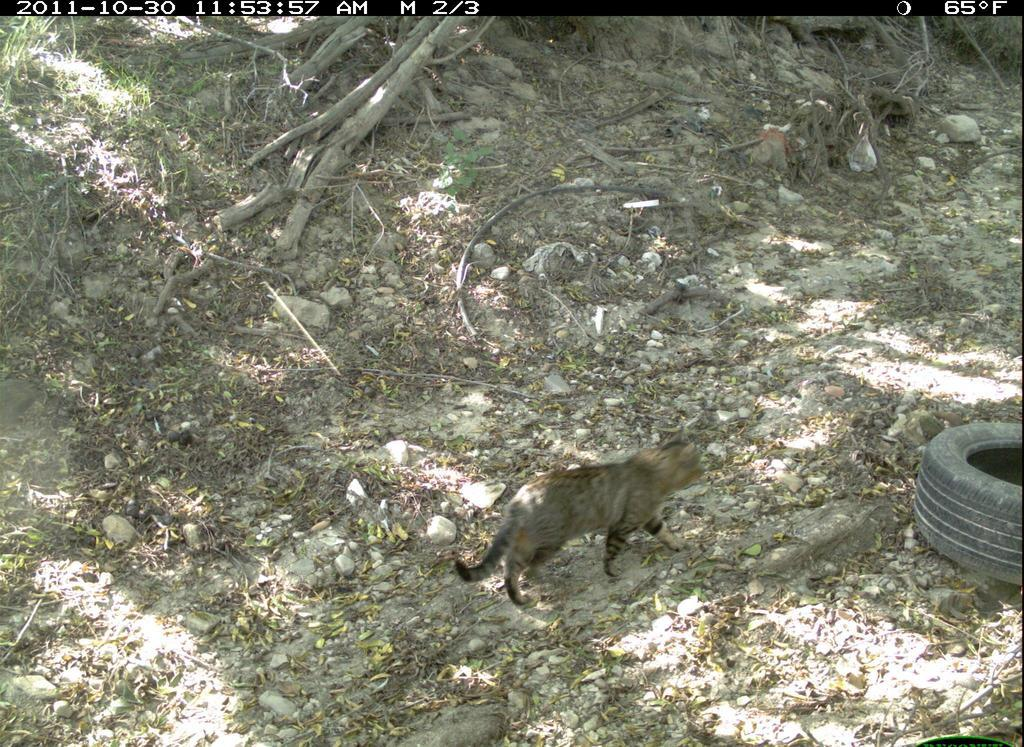cat: (450, 427, 713, 609)
